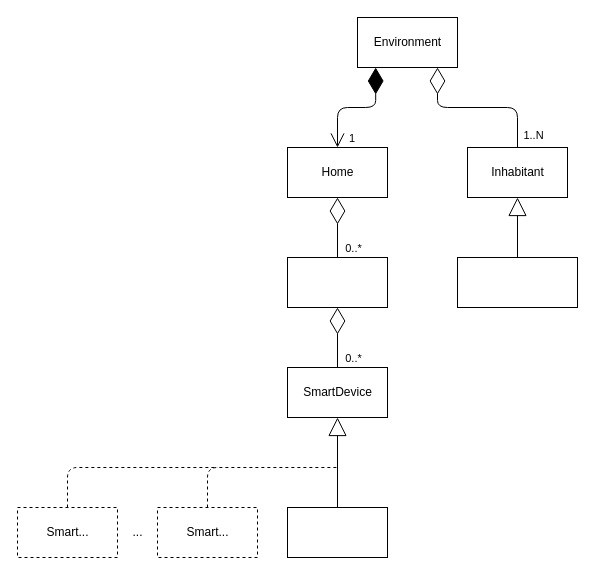
Some shapes in this 595 by 575 pixel diagram are drawn without their labels. The centre of each missing label's shape, as x and y in pixels:
"Room" goes at [337,282].
"SmartLight" goes at [337,532].
"StochasticInhabitant" goes at [517,282].
